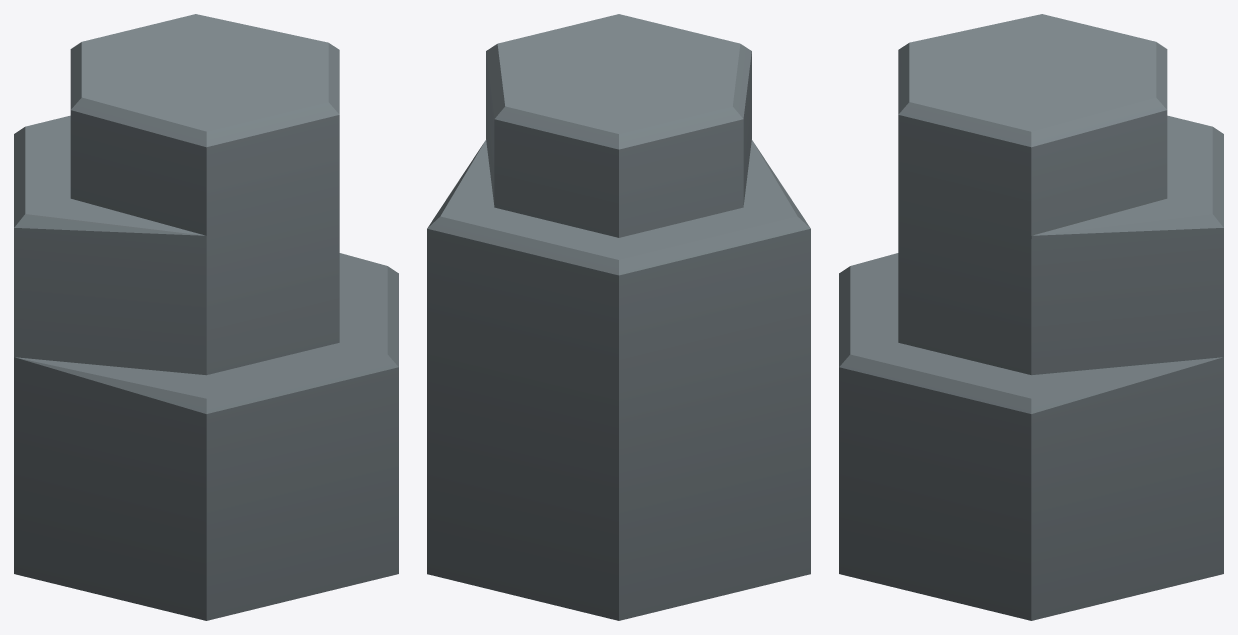
The model's file is kf_rock_1_f.fbx.
The picture shows the model from 3 angles, left to right: view 1: azimuth 30°, elevation 25°; view 2: azimuth 150°, elevation 25°; view 3: azimuth 270°, elevation 25°; orthographic projection.
Visible parts, largest first — view 1: kf_rock_1_f; view 2: kf_rock_1_f; view 3: kf_rock_1_f.
Part boxes in pixels (bbox=[...]): kf_rock_1_f: bbox=[14, 14, 398, 620]; kf_rock_1_f: bbox=[427, 14, 810, 620]; kf_rock_1_f: bbox=[839, 14, 1223, 620].
Size of the model in its own units: 2.4 by 2.71 by 2.08.
1 material, 1 textured.
